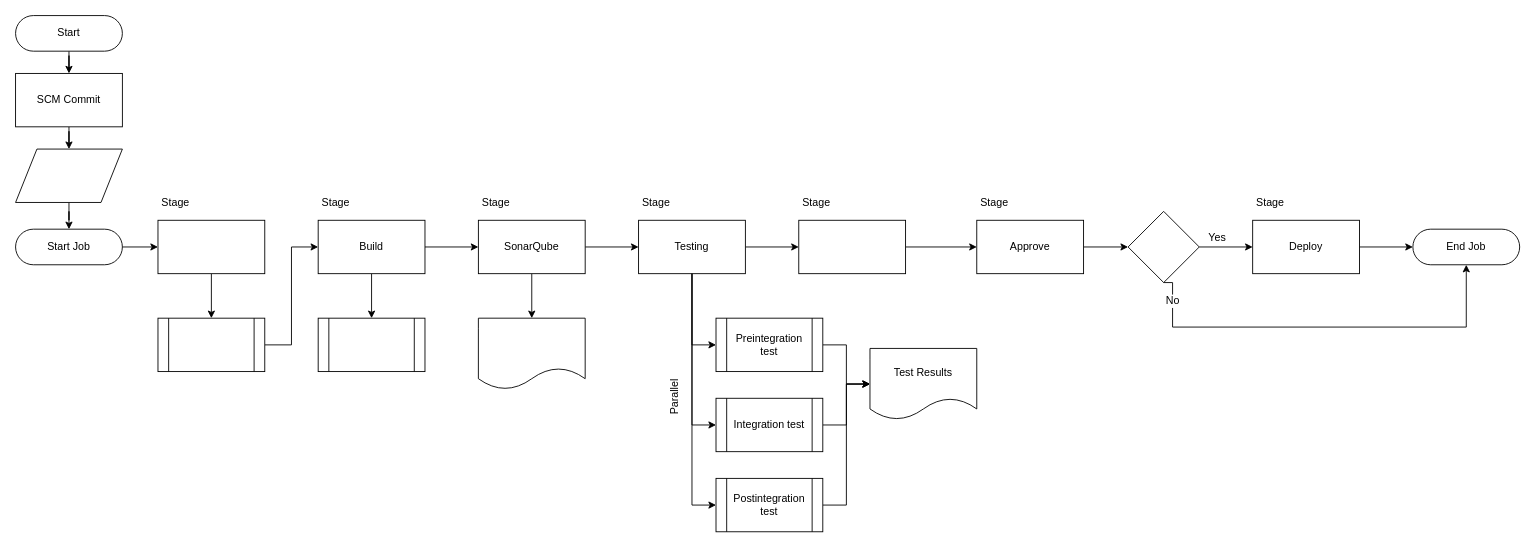
The diagram is 1535 pixels wide and 547 high, and some of its shapes have lost their labels. Here are the shapes that lost their labels. From the top down, the centre of each, then its label:
the point at 68,175: Repository & Branch name
the point at 211,246: SCM Ceckout Git
the point at 852,246: Nexus
the point at 211,344: Collect
the point at 371,344: Build Module
the point at 531,353: Code Quality Result
